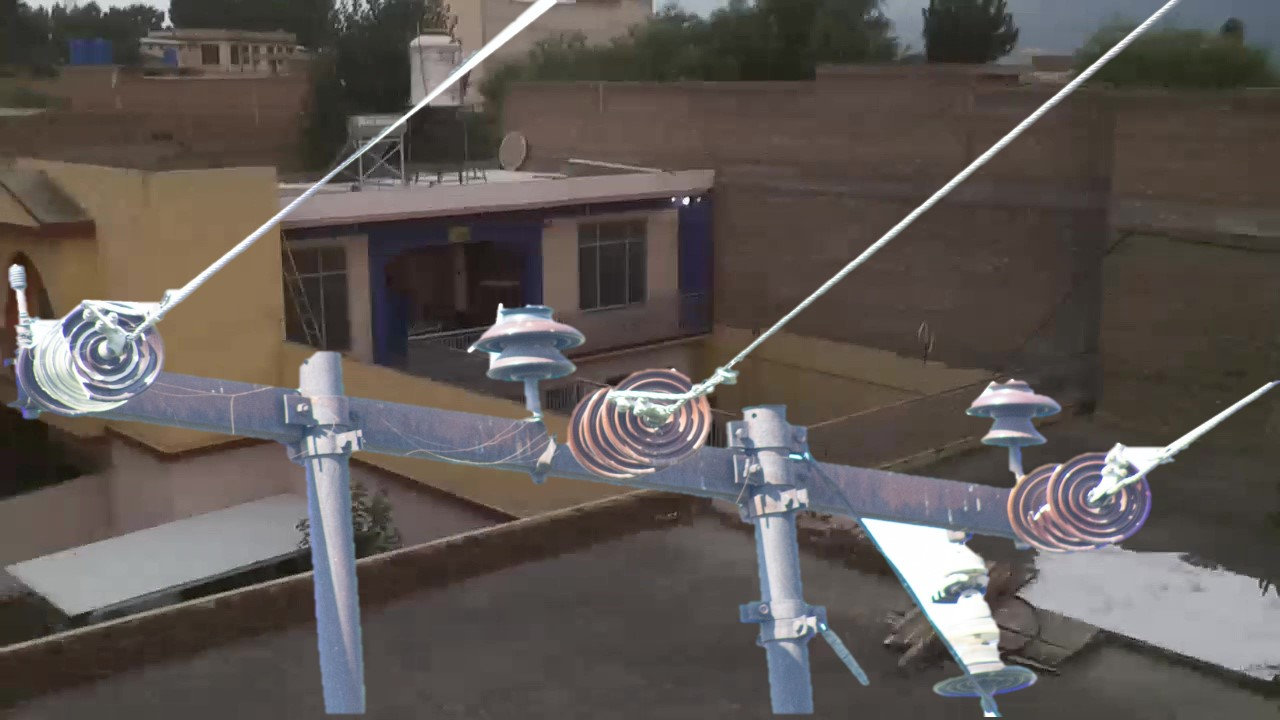defect_disc: (56, 286, 169, 411)
insulator_disc: (1047, 440, 1160, 548), (599, 364, 717, 465)
